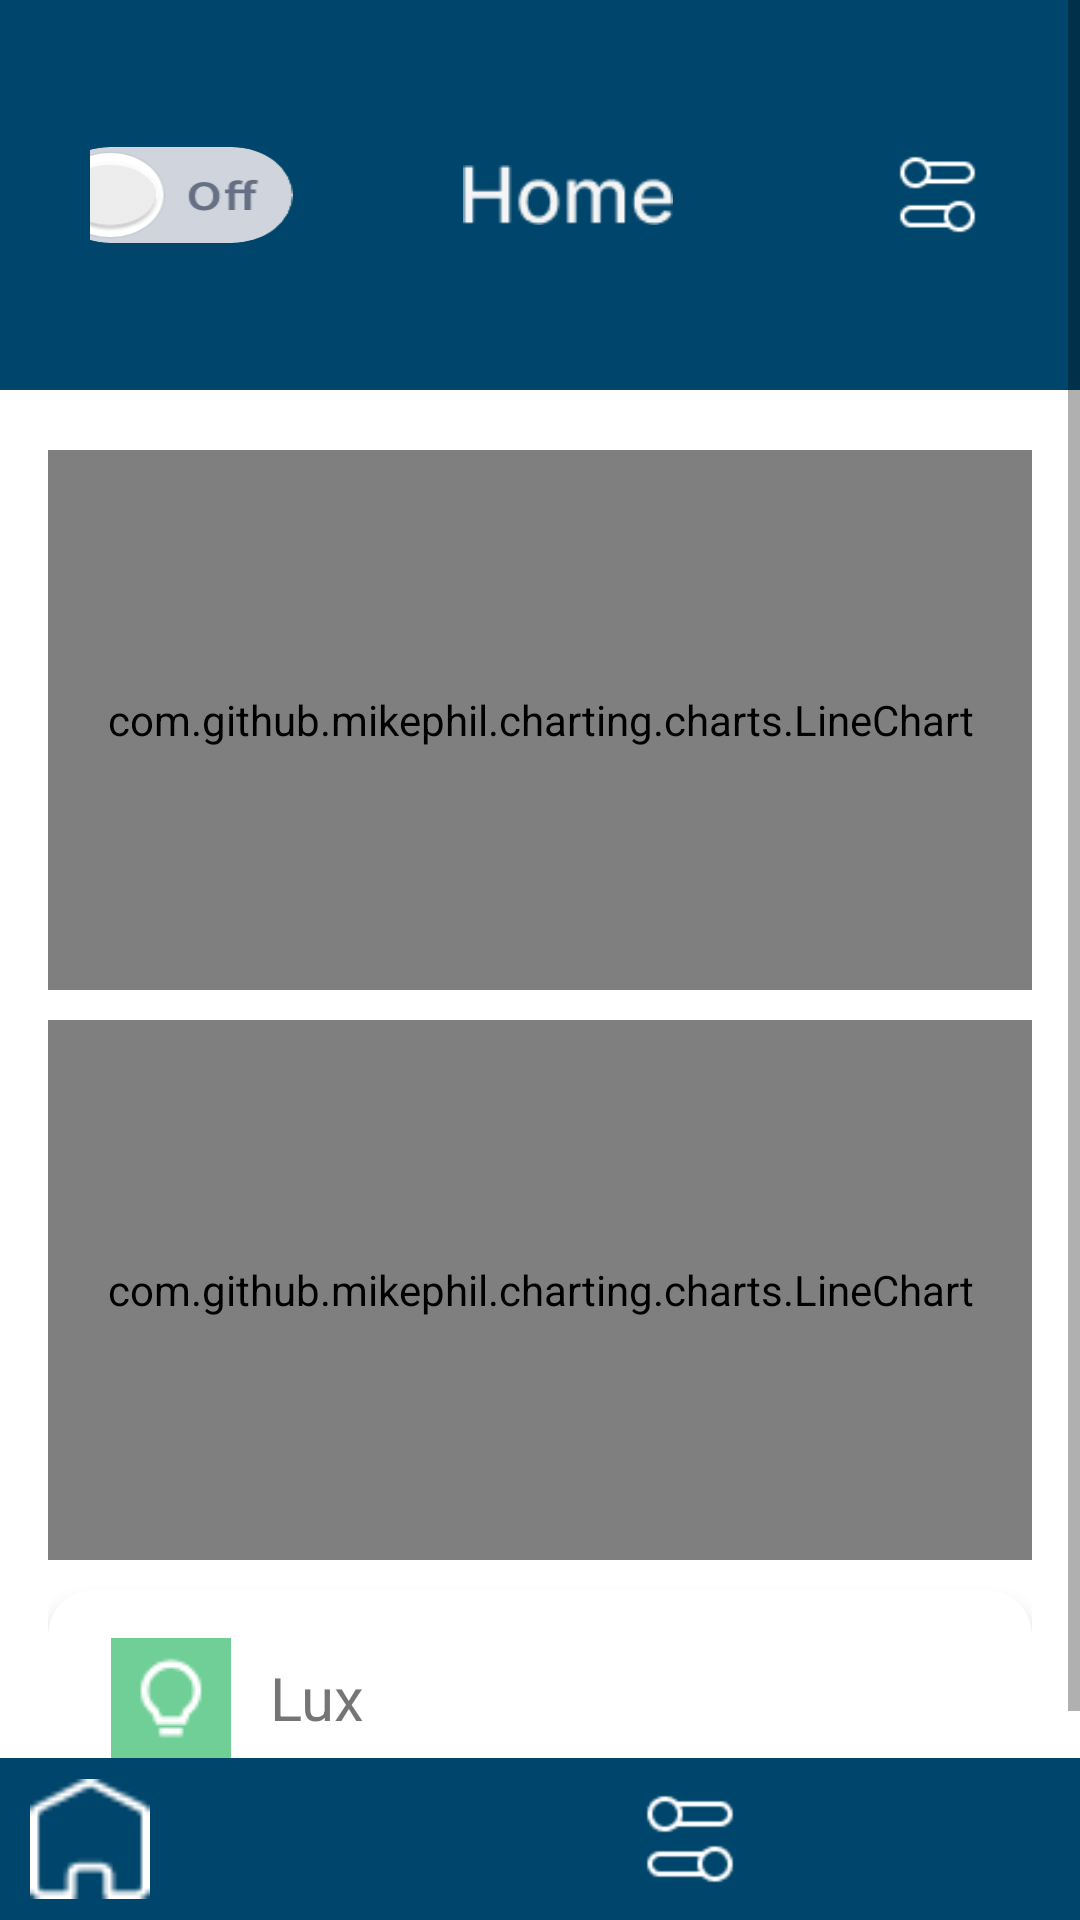

Locate icon controls on the screen. Image size 1080 x 1920, boxes as detection(x1, y1, x2, y2).
hbutton: detection(30, 1779, 150, 1899)
